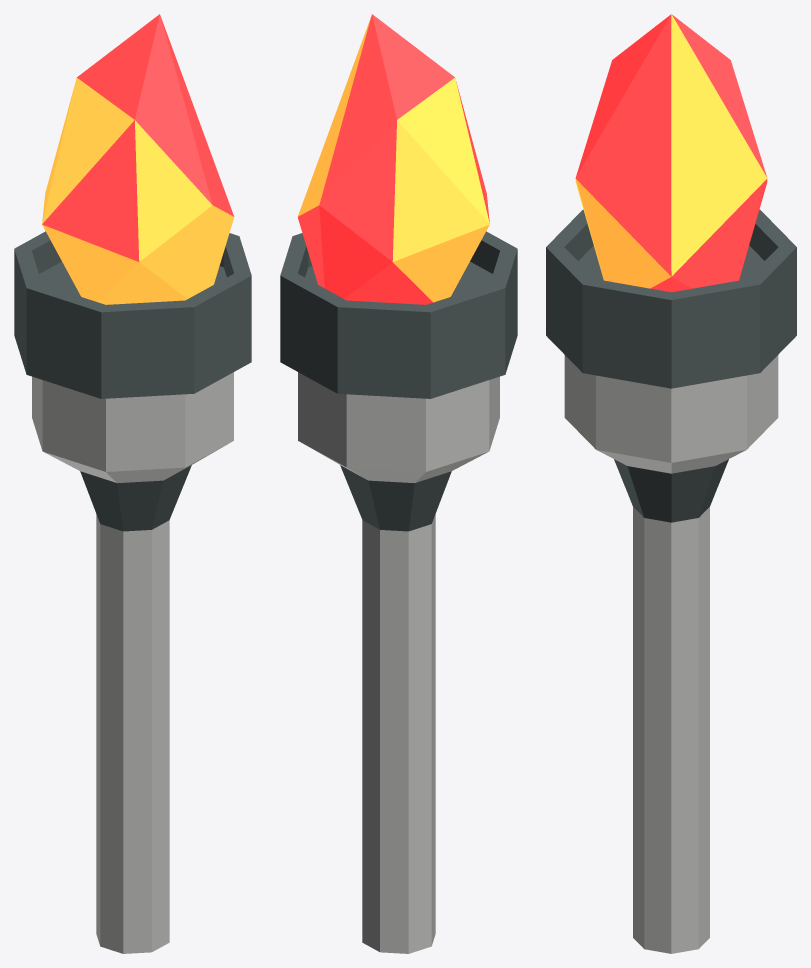
Rendered from Torch_5_White.fbx.
3 renders of one model, left to right at view 1: azimuth 30°, elevation 25°; view 2: azimuth 150°, elevation 25°; view 3: azimuth 270°, elevation 25°, orthographic. The views are drawn at different scales.
Visible parts, largest first — view 1: Torch_5_White_Part_1, Torch_5_White_Part_2, Torch_5_White_Part_4, Torch_5_White_Part_3; view 2: Torch_5_White_Part_1, Torch_5_White_Part_2, Torch_5_White_Part_3, Torch_5_White_Part_4; view 3: Torch_5_White_Part_1, Torch_5_White_Part_2, Torch_5_White_Part_3, Torch_5_White_Part_4.
Part boxes in pixels (<box>): Torch_5_White_Part_1: <box>32,372,233,953</box>; Torch_5_White_Part_2: <box>14,231,251,531</box>; Torch_5_White_Part_4: <box>42,78,234,304</box>; Torch_5_White_Part_3: <box>42,14,234,261</box>; Torch_5_White_Part_1: <box>298,372,499,953</box>; Torch_5_White_Part_2: <box>280,231,517,531</box>; Torch_5_White_Part_3: <box>297,14,489,304</box>; Torch_5_White_Part_4: <box>297,16,489,302</box>; Torch_5_White_Part_1: <box>564,355,778,953</box>; Torch_5_White_Part_2: <box>546,209,796,522</box>; Torch_5_White_Part_3: <box>575,14,767,292</box>; Torch_5_White_Part_4: <box>575,14,767,288</box>.
Size of the model in its own units: 13.01 by 53.59 by 13.01.
